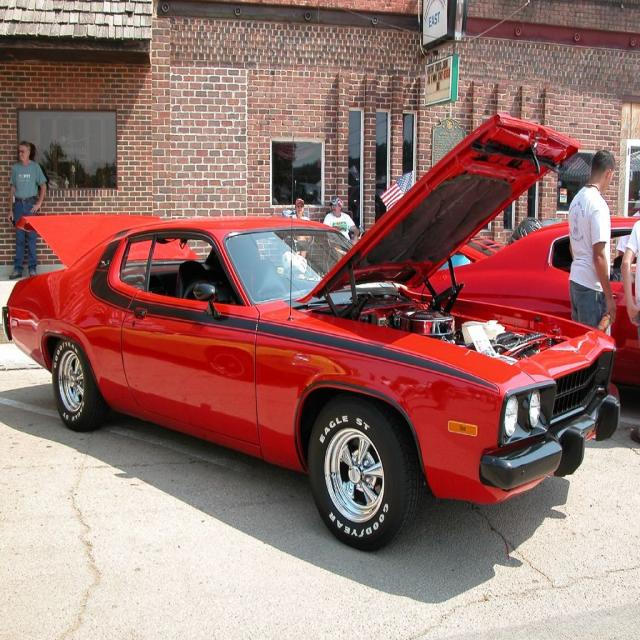car: (0, 110, 618, 554)
